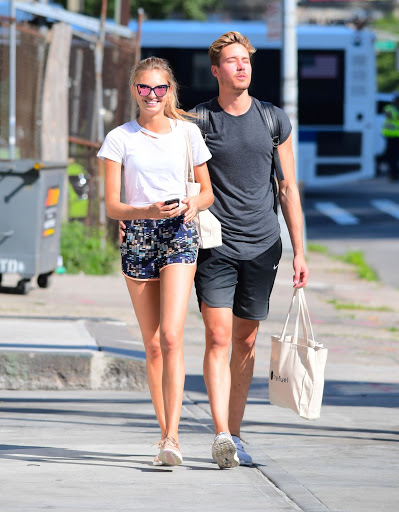Person: (192, 30, 311, 472), (96, 55, 215, 466)
